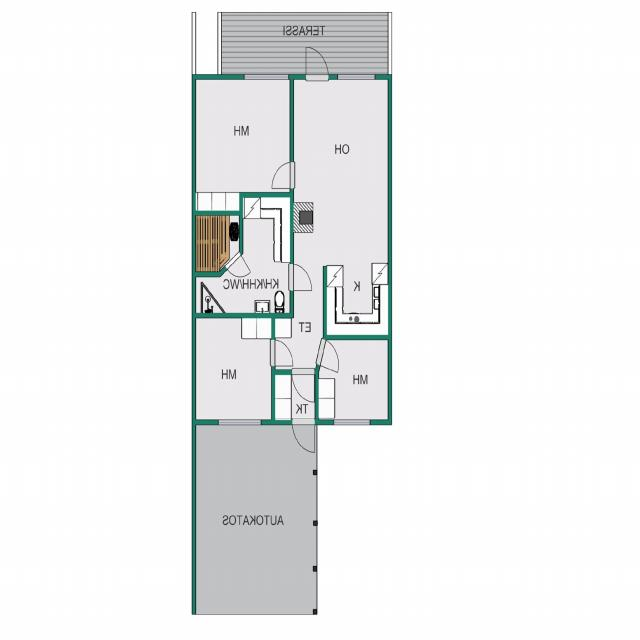door: (316, 340, 345, 374), (225, 251, 251, 288), (306, 44, 328, 79), (292, 420, 314, 454), (292, 370, 314, 403), (290, 264, 314, 290), (270, 162, 294, 188), (271, 340, 295, 366)
